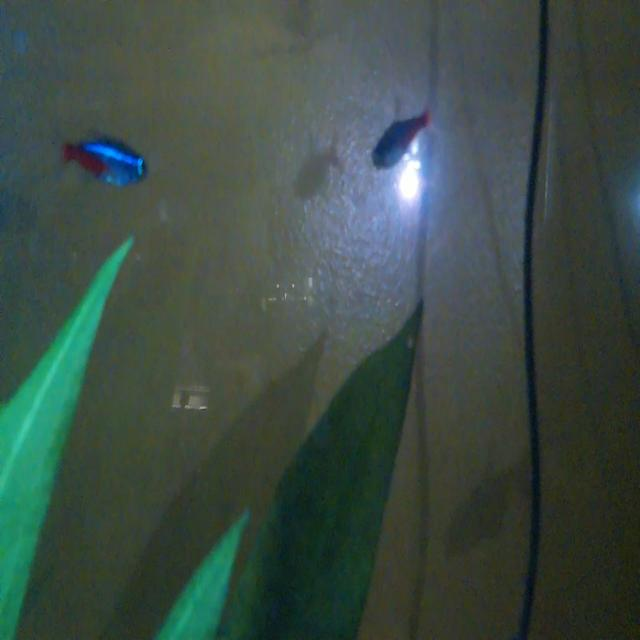fish: (55, 124, 156, 196), (364, 92, 436, 172)
